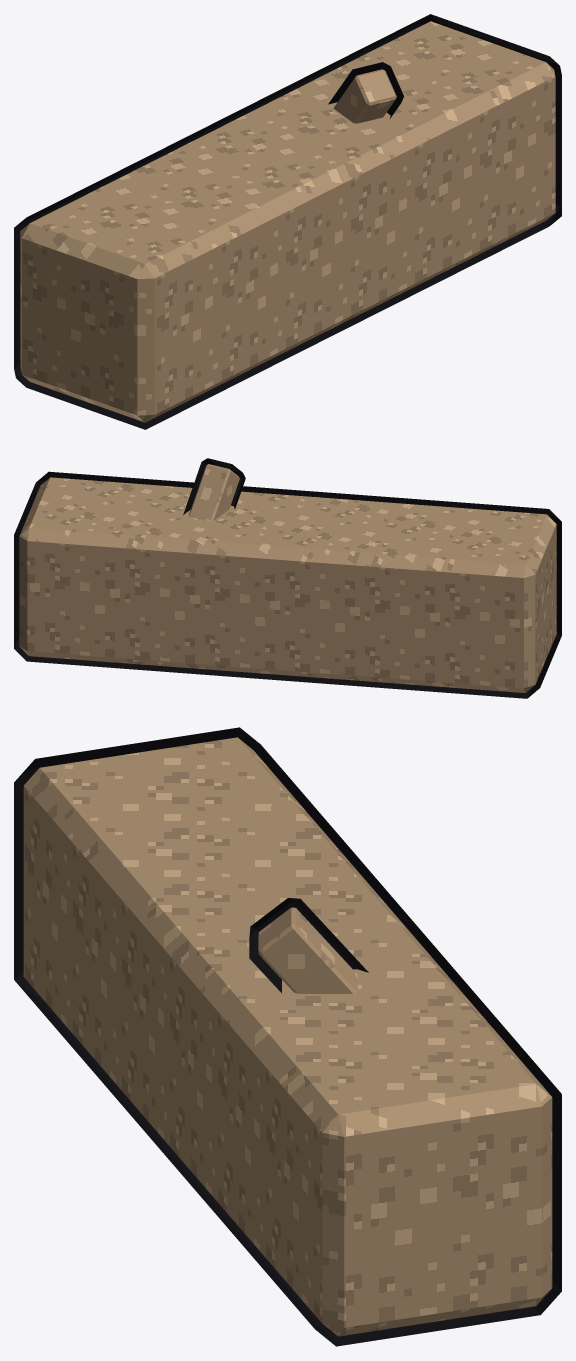
File: env_lake_driftwood.glb
3 renders of one model, top to bottom at view 1: azimuth 30°, elevation 25°; view 2: azimuth 150°, elevation 25°; view 3: azimuth 270°, elevation 25°, orthographic. The views are drawn at different scales.
Parts seen in each view (by area): view 1: model; view 2: model; view 3: model.
Part boxes in pixels (box(x1,y1,x2,y2)): model: box(14, 14, 561, 429); model: box(14, 458, 561, 698); model: box(14, 727, 561, 1346).
Bounding box in the file's own units: 2.08 × 0.7426 × 1.21.
2 materials, 1 textured.
